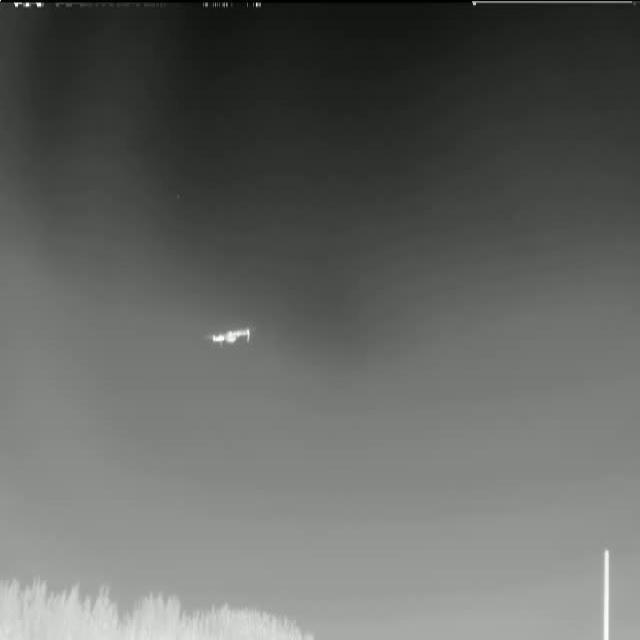DRONE: (196, 318, 259, 358)
